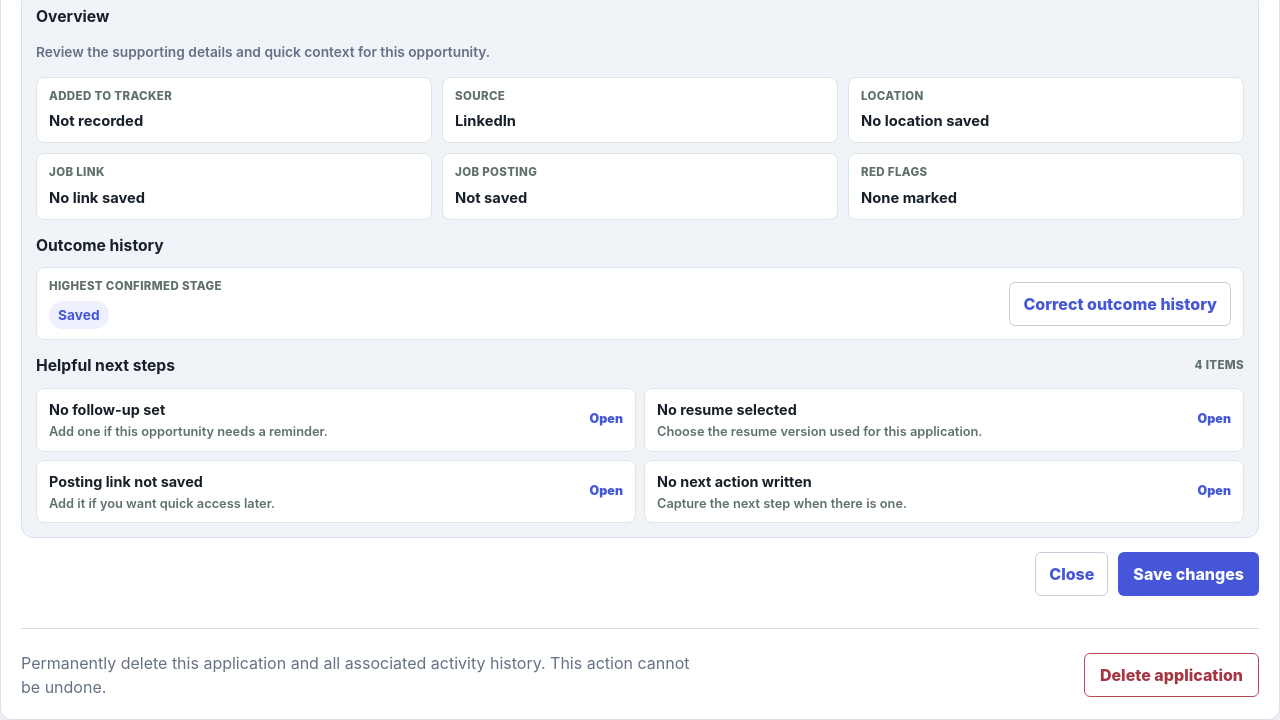
Test: ApplicationDetailPanel permanent deletion › places a button-only danger zone after regular actions and restores focus after cancel
The image size is (1280, 720).
(page scrolled)
Click the button with class "delete-application-trigger".
click(1171, 676)  # box [1084, 654, 1259, 698]
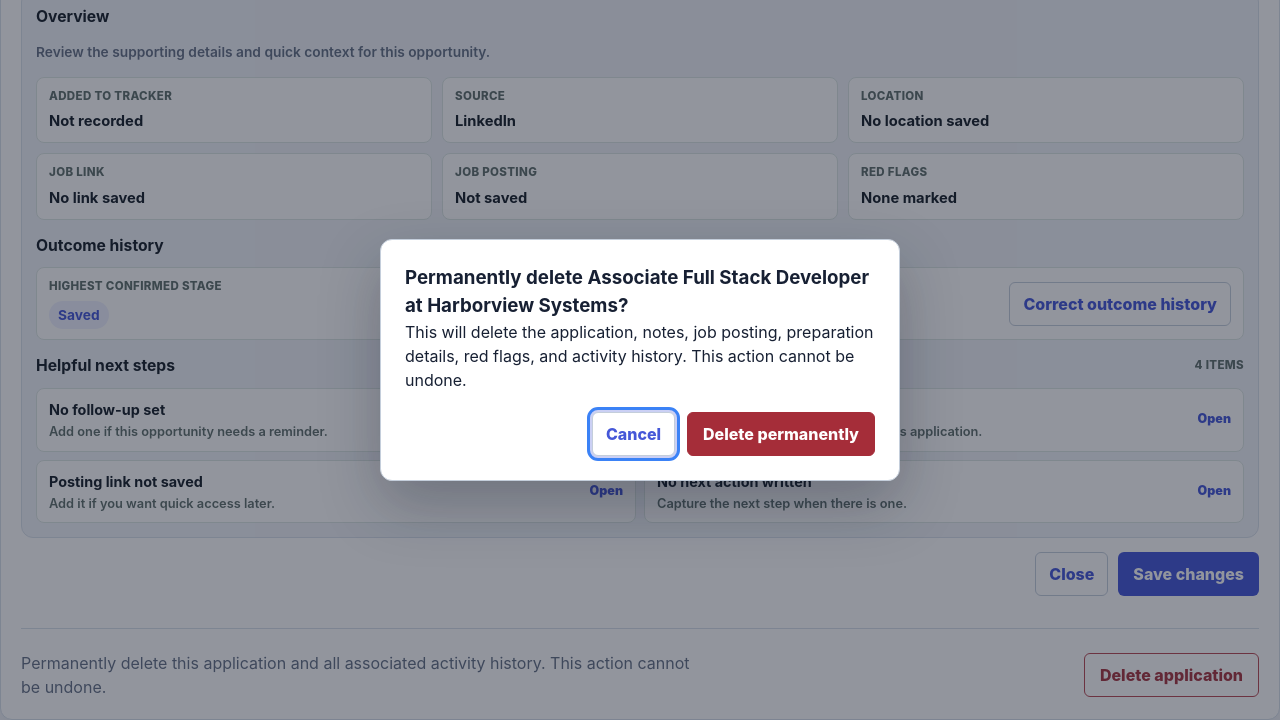
Expected: the dialog shows "Permanently delete Associate Full Stack Developer at Harborview Systems?", [405, 266, 869, 317]
Expected: the dialog shows "This action cannot be undone.", [405, 322, 874, 390]
Click the button "Cancel".
click(633, 434)  # box [592, 412, 675, 456]
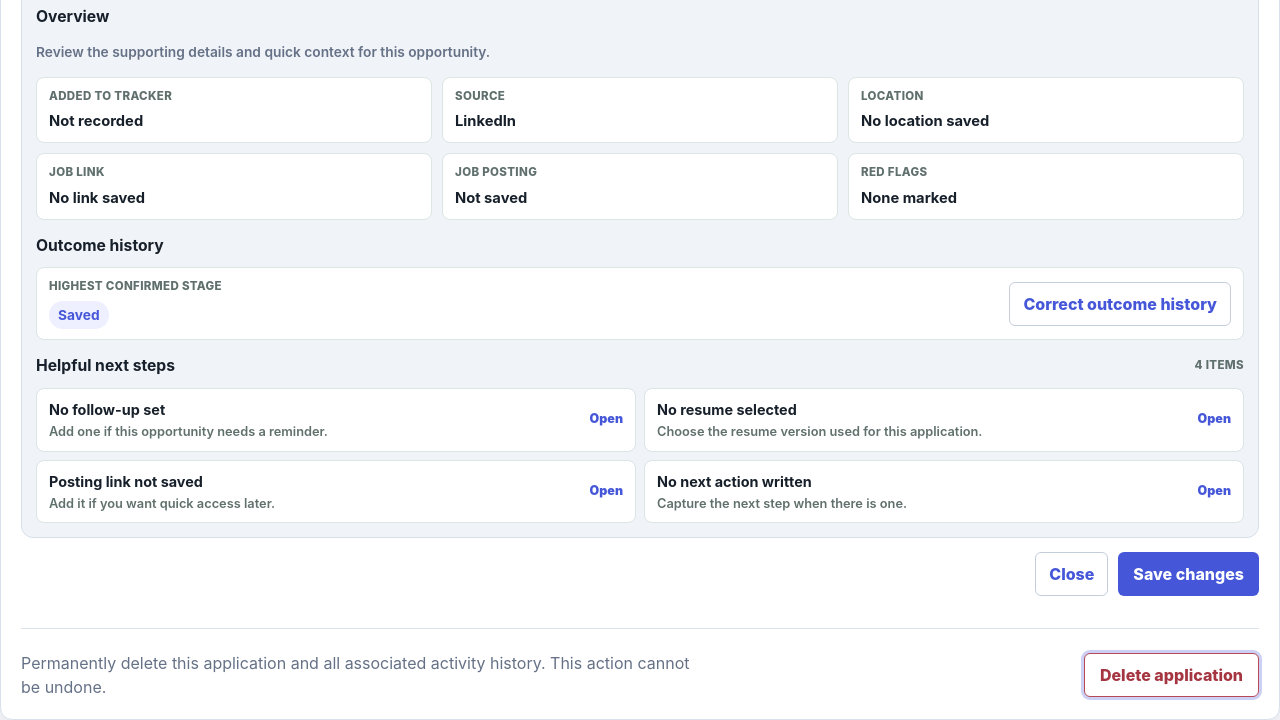
Expected: the dialog is gone
